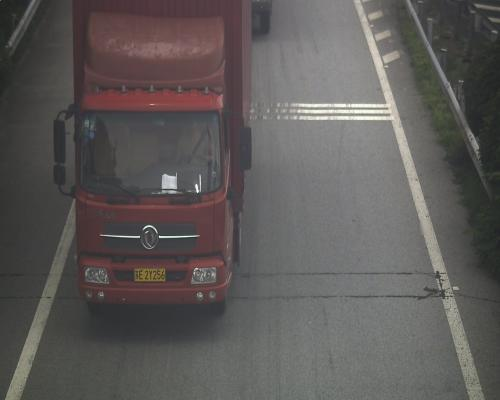Carplate: (132, 260, 168, 288)
